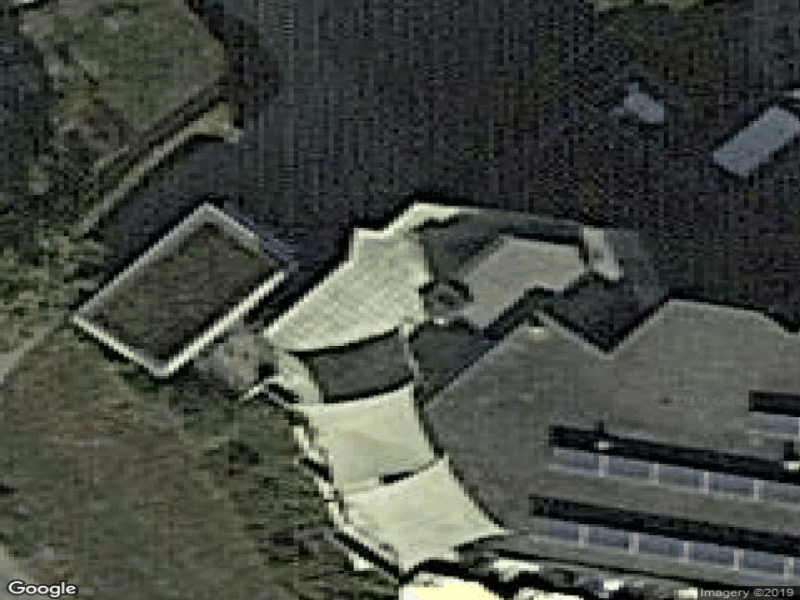pv: (532, 517, 800, 580), (549, 445, 800, 509), (748, 408, 800, 438)
